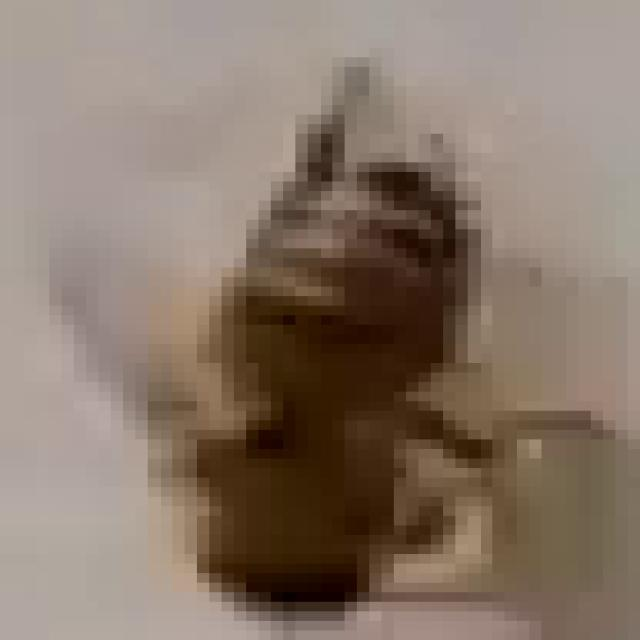honeybee: (166, 81, 542, 623)
